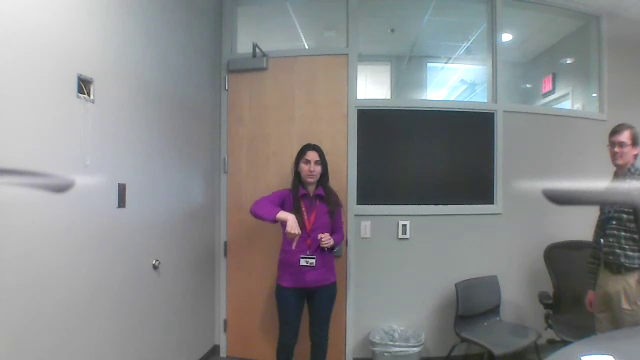down: (282, 212, 306, 254)
